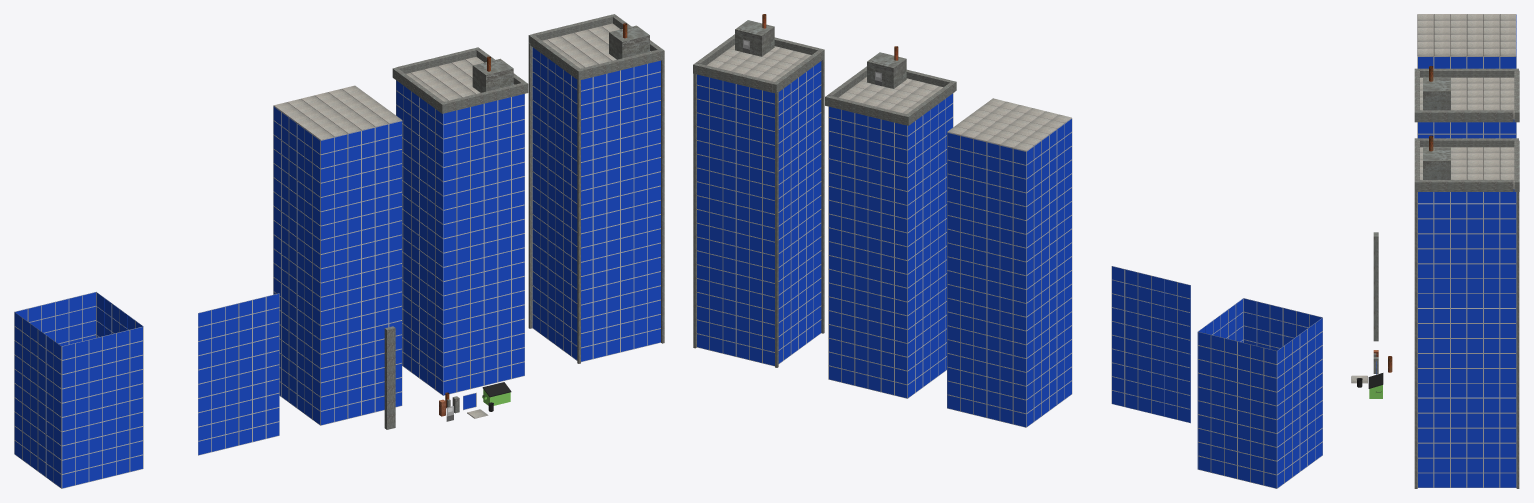
Rendered from Modular city.fbx.
3 views of the same model, side by side, from view 1: azimuth 30°, elevation 25°; view 2: azimuth 150°, elevation 25°; view 3: azimuth 270°, elevation 25° (orthographic). The views are drawn at different scales.
Visible parts, largest first — view 1: Skyscraper (windows + concrete perimeter), Skyscraper (mostly windows), Building (no door and top walls), Giant window wall (all sides), Giant window wall, Concrete pillar long; view 2: Skyscraper (windows + concrete perimeter), Building (no door and top walls), Skyscraper (mostly windows), Giant window wall (all sides), Giant window wall; view 3: Skyscraper (windows + concrete perimeter), Skyscraper (mostly windows), Building (no door and top walls), Concrete pillar long, Cube.
Boxes of the visible parts, x1,y1,x2,y2 form: Skyscraper (windows + concrete perimeter): (528, 14, 664, 363); Skyscraper (mostly windows): (392, 47, 528, 395); Building (no door and top walls): (273, 85, 402, 425); Giant window wall (all sides): (14, 292, 143, 488); Giant window wall: (198, 293, 279, 455); Concrete pillar long: (384, 326, 395, 429); Skyscraper (windows + concrete perimeter): (693, 14, 824, 367); Building (no door and top walls): (947, 98, 1072, 427); Skyscraper (mostly windows): (825, 46, 956, 398); Giant window wall (all sides): (1197, 298, 1322, 488); Giant window wall: (1111, 266, 1190, 423); Skyscraper (windows + concrete perimeter): (1414, 135, 1519, 488); Skyscraper (mostly windows): (1414, 66, 1519, 138); Building (no door and top walls): (1417, 14, 1516, 68); Concrete pillar long: (1373, 232, 1378, 341); Cube: (1368, 373, 1383, 398).
Bounding box in the file's own units: 8832 × 4500 × 2039.
